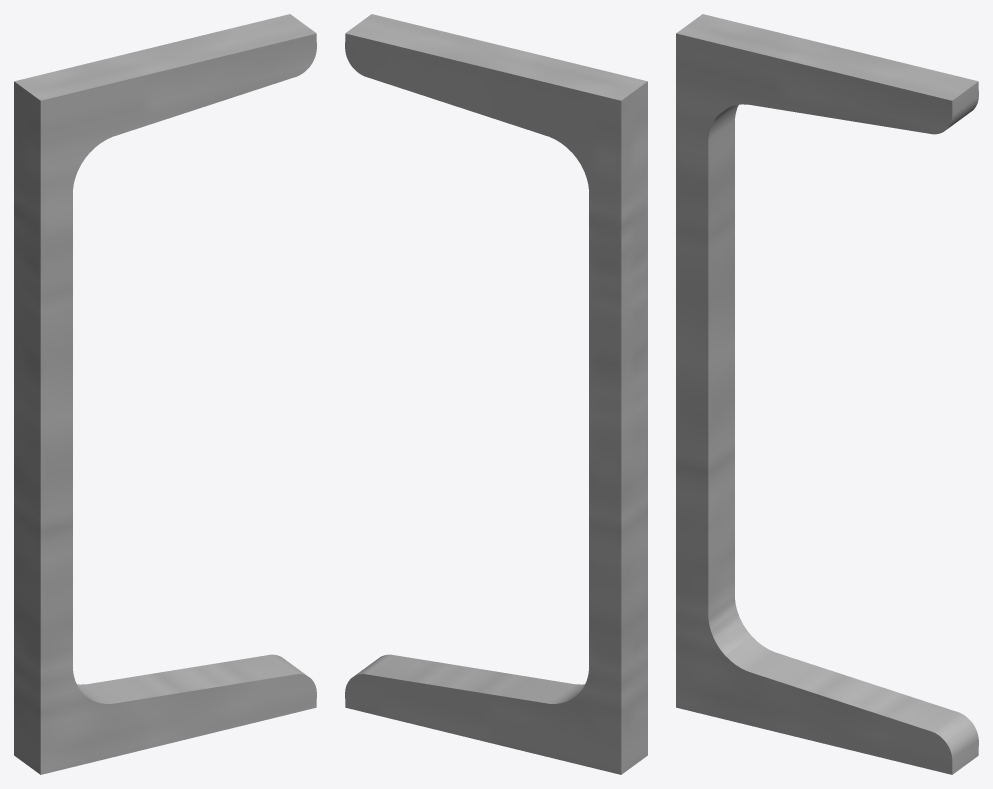
Rendered from UPN140.glb.
The picture shows the model from 3 angles, left to right: view 1: azimuth 30°, elevation 25°; view 2: azimuth 150°, elevation 25°; view 3: azimuth 330°, elevation 25°; orthographic projection.
Bounding box in the file's own units: 6 × 14 × 1.
Materials: 1 (1 with a texture image).
